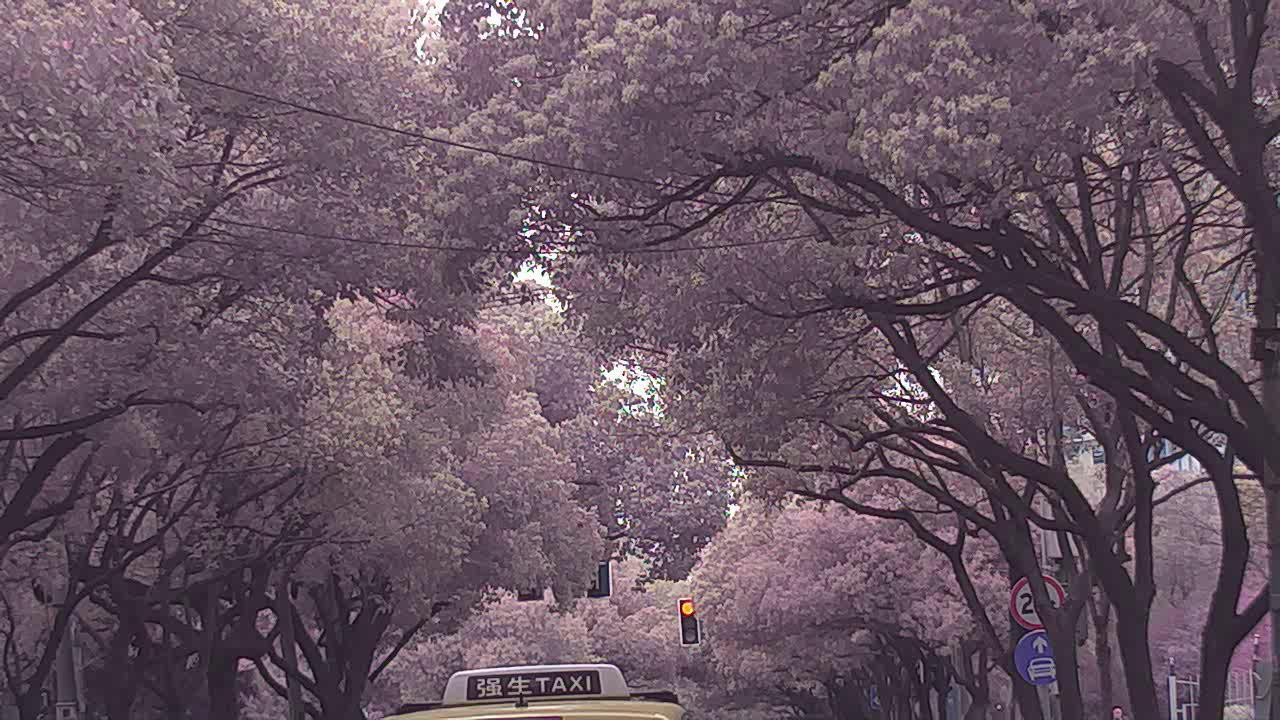traffic_light: (679, 598, 698, 644)
